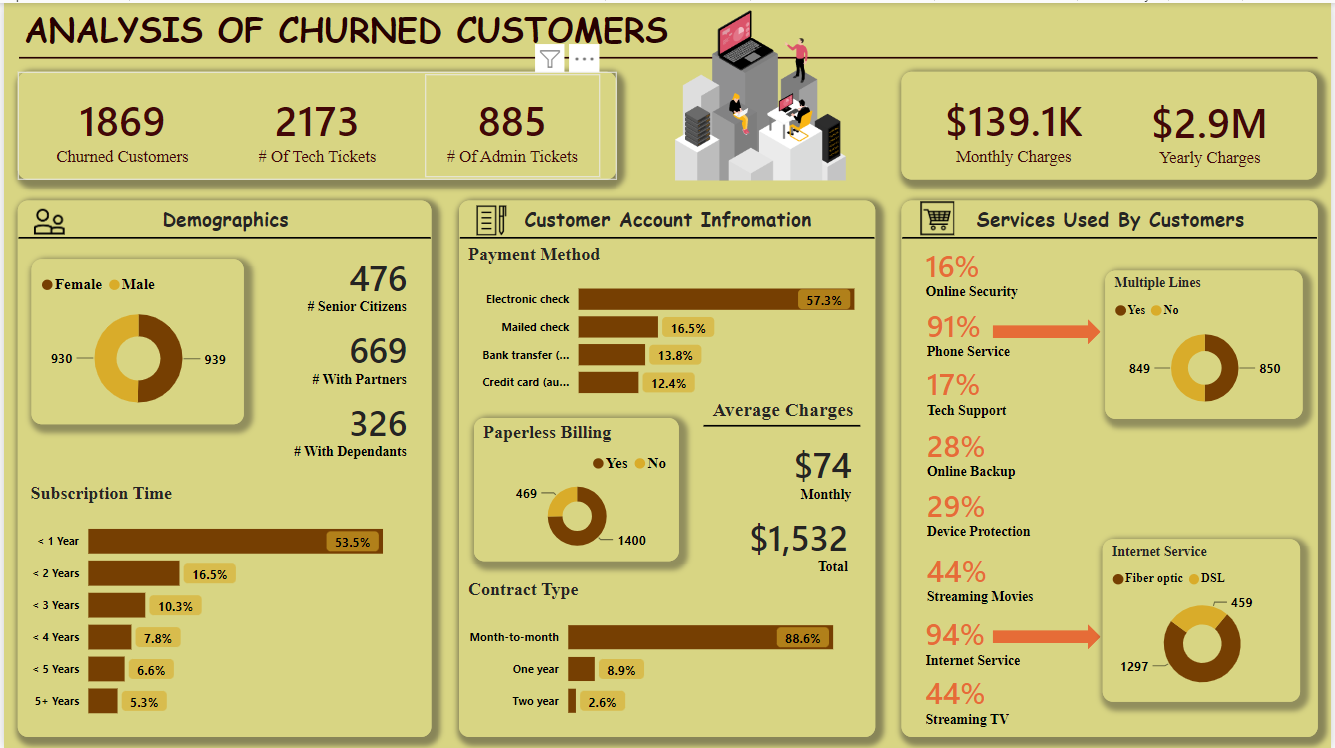

The dashboard page shown, as its layout file describes it:
{"tool":"powerbi","page":{"name":"Churn Analysis","canvas":[1280,720],"ordinal":0},"visuals":[{"type":"textbox","title":"ANALYSIS OF CHURNED CUSTOMERS","box":[14.5,2.4,1253.1,57.9],"z":0},{"type":"cardVisual","fields":{"Data":["Churn Calculation.% Internet Service"]},"box":[878,581.4,147.5,67.5],"z":0,"group":"g4"},{"type":"shape","box":[13.3,66.5,577.7,103.7],"z":1000,"group":"g3"},{"type":"shape","title":"Demographics","box":[13.3,190.6,399.2,517.4],"z":1000},{"type":"shape","title":"Mu","box":[954,599.6,103.7,24.1],"z":1000,"group":"g4"},{"type":"shape","box":[865.9,66.3,400.4,103.7],"z":2000},{"type":"cardVisual","fields":{"Data":["CountNonNull(01 Churn-Dataset.customerID)"]},"box":[30.2,68.9,168.8,98.9],"z":2000,"group":"g3"},{"type":"pieChart","title":"Internet Service","fields":{"Category":["Churn.InternetService"],"Y":["CountNonNull(Churn.InternetService)"]},"box":[1060.1,517.6,190.6,156.8],"z":2000,"group":"g4"},{"type":"cardVisual","fields":{"Data":["Sum(01 Churn-Dataset.numTechTickets)"]},"box":[218.3,68.9,168.8,98.9],"z":3000,"group":"g3"},{"type":"shape","title":"Customer Account Infromation","box":[439,190.6,401.6,517.4],"z":3000},{"type":"cardVisual","fields":{"Data":["Sum(01 Churn-Dataset.numAdminTickets)"]},"box":[406.5,68.9,168.8,98.9],"z":4000,"group":"g3"},{"type":"shape","title":"Services Used By Customers","box":[865.9,190.6,401.6,517.4],"z":4000},{"type":"cardVisual","fields":{"Data":["Churn.# Churn Senior"]},"box":[244.6,235.2,155.6,65.1],"z":5000,"group":"g2"},{"type":"donutChart","fields":{"Category":["01 Churn-Dataset.gender"],"Y":["CountNonNull(01 Churn-Dataset.gender)"]},"box":[26.5,247.2,205,159.2],"z":5000},{"type":"cardVisual","fields":{"Data":["Churn.# Churn Partner"]},"box":[244.6,305.1,155.6,65.1],"z":6000,"group":"g2"},{"type":"barChart","title":"Subscription Time","fields":{"Y":["CountNonNull(Churn.tenure)"],"Category":["Churn.Loyalty"]},"box":[20.5,463.1,384.7,240],"z":6000},{"type":"cardVisual","fields":{"Data":["Sum(01 Churn-Dataset.MonthlyCharges)"]},"box":[885.2,68.7,178.5,98.9],"z":7000},{"type":"cardVisual","fields":{"Data":["Churn.# Churn Dependants"]},"box":[244.6,375.1,155.6,65.1],"z":7000,"group":"g2"},{"type":"cardVisual","fields":{"Data":["Sum(01 Churn-Dataset.TotalCharges)"]},"box":[1078.2,69.9,170.1,97.7],"z":8000},{"type":"barChart","title":"Payment Method","fields":{"Category":["Churn.PaymentMethod"],"Y":["CountNonNull(Churn.PaymentMethod)"]},"box":[442.6,232.8,395.6,160.4],"z":9000},{"type":"barChart","title":"Contract Type","fields":{"Category":["Churn.Contract"],"Y":["CountNonNull(Churn.Contract)"]},"box":[442.6,556,395.6,147.1],"z":10000},{"type":"image","box":[24.1,188.1,39.8,44.6],"z":11000},{"type":"image","box":[446.2,190.6,47,38.6],"z":12000},{"type":"image","box":[879.2,185.7,42.2,43.4],"z":13000},{"type":"cardVisual","fields":{"Data":["Churn.% Phone Serve Users"]},"box":[879.2,283.6,147.5,67.5],"z":14000,"group":"g5"},{"type":"pieChart","title":"Paperless Billing","fields":{"Category":["Churn.PaperlessBilling"],"Y":["CountNonNull(Churn.PaperlessBilling)"]},"box":[453.5,400.4,197.8,138.7],"z":14000},{"type":"group","id":"g1","title":"Group 2","box":[674,377.5,154.4,177.3],"z":15000},{"type":"cardVisual","fields":{"Data":["Churn Calculation.% Online Backup"]},"box":[878.8,398.8,146.2,65],"z":16000},{"type":"shape","title":"Average Charges","box":[674.3,377.5,153.2,177.3],"z":16500,"group":"g1"},{"type":"cardVisual","fields":{"Data":["Churn Calculation.% Online Security"]},"box":[878,225.5,145.9,65.1],"z":17000},{"type":"cardVisual","fields":{"Data":["Avg(Churn.MonthlyCharges)"]},"box":[675.2,416.5,153.2,65.1],"z":17000,"group":"g1"},{"type":"cardVisual","fields":{"Data":["Churn Calculation.% Device Protection"]},"box":[878.8,457.5,146.2,68.8],"z":18000},{"type":"cardVisual","fields":{"Data":["Churn Calculation.% Tech Support"]},"box":[878.8,340,147.5,65],"z":19000},{"type":"cardVisual","fields":{"Data":["Avg(Churn.TotalCharges)"]},"box":[674,486.5,152,65.1],"z":19000,"group":"g1"},{"type":"group","id":"g2","title":"Group 3","box":[244.6,235.2,155.6,205],"z":20000},{"type":"image","box":[606.6,2.4,246,173.7],"z":21000},{"type":"pieChart","title":"Multiple Lines","fields":{"Category":["Churn.MultipleLines"],"Y":["CountNonNull(Churn.MultipleLines)"]},"box":[1062.5,258.3,190.6,143.5],"z":21003,"group":"g5"},{"type":"shape","title":"Mu","box":[954,305.3,103.7,24.1],"z":21010,"group":"g5"},{"type":"group","id":"g3","title":"Group 4","box":[13.3,66.5,577.7,103.7],"z":22000},{"type":"cardVisual","fields":{"Data":["Churn Calculation.% Streaming Movies"]},"box":[879.2,519.8,147.1,68.7],"z":23000},{"type":"cardVisual","fields":{"Data":["Churn Calculation.% Streaming TV"]},"box":[878,638,139.9,65.1],"z":24000},{"type":"group","id":"g4","title":"Group 5","box":[878,517.6,372.7,156.8],"z":25000},{"type":"group","id":"g5","title":"Group 1","box":[879.2,258.3,373.9,143.5],"z":26000}]}

Visuals, with their boxes in screenshot pixels (x1, y1, x2, y2), scaled from the page's 1280x720 canvas onto the 1335x748 screenshot:
"ANALYSIS OF CHURNED CUSTOMERS" textbox: Rect(15, 2, 1322, 63)
cardVisual - Churn Calculation.% Internet Service: Rect(916, 604, 1070, 674)
shape: Rect(14, 69, 616, 177)
"Demographics" shape: Rect(14, 198, 430, 736)
"Mu" shape: Rect(995, 623, 1103, 648)
shape: Rect(903, 69, 1321, 177)
cardVisual - CountNonNull(01 Churn-Dataset.customerID): Rect(31, 72, 208, 174)
"Internet Service" pieChart: Rect(1106, 538, 1304, 701)
cardVisual - Sum(01 Churn-Dataset.numTechTickets): Rect(228, 72, 404, 174)
"Customer Account Infromation" shape: Rect(458, 198, 877, 736)
cardVisual - Sum(01 Churn-Dataset.numAdminTickets): Rect(424, 72, 600, 174)
"Services Used By Customers" shape: Rect(903, 198, 1322, 736)
cardVisual - Churn.# Churn Senior: Rect(255, 244, 417, 312)
donutChart - 01 Churn-Dataset.gender x CountNonNull(01 Churn-Dataset.gender): Rect(28, 257, 241, 422)
cardVisual - Churn.# Churn Partner: Rect(255, 317, 417, 385)
"Subscription Time" barChart: Rect(21, 481, 423, 730)
cardVisual - Sum(01 Churn-Dataset.MonthlyCharges): Rect(923, 71, 1109, 174)
cardVisual - Churn.# Churn Dependants: Rect(255, 390, 417, 457)
cardVisual - Sum(01 Churn-Dataset.TotalCharges): Rect(1125, 73, 1302, 174)
"Payment Method" barChart: Rect(462, 242, 874, 408)
"Contract Type" barChart: Rect(462, 578, 874, 730)
image: Rect(25, 195, 67, 242)
image: Rect(465, 198, 514, 238)
image: Rect(917, 193, 961, 238)
cardVisual - Churn.% Phone Serve Users: Rect(917, 295, 1071, 365)
"Paperless Billing" pieChart: Rect(473, 416, 679, 560)
"Group 2" group: Rect(703, 392, 864, 576)
cardVisual - Churn Calculation.% Online Backup: Rect(917, 414, 1069, 482)
"Average Charges" shape: Rect(703, 392, 863, 576)
cardVisual - Churn Calculation.% Online Security: Rect(916, 234, 1068, 302)
cardVisual - Avg(Churn.MonthlyCharges): Rect(704, 433, 864, 500)
cardVisual - Churn Calculation.% Device Protection: Rect(917, 475, 1069, 547)
cardVisual - Churn Calculation.% Tech Support: Rect(917, 353, 1070, 421)
cardVisual - Avg(Churn.TotalCharges): Rect(703, 505, 861, 573)
"Group 3" group: Rect(255, 244, 417, 457)
image: Rect(633, 2, 889, 183)
"Multiple Lines" pieChart: Rect(1108, 268, 1307, 417)
"Mu" shape: Rect(995, 317, 1103, 342)
"Group 4" group: Rect(14, 69, 616, 177)
cardVisual - Churn Calculation.% Streaming Movies: Rect(917, 540, 1070, 611)
cardVisual - Churn Calculation.% Streaming TV: Rect(916, 663, 1062, 730)
"Group 5" group: Rect(916, 538, 1304, 701)
"Group 1" group: Rect(917, 268, 1307, 417)
